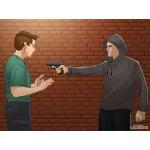Pistol: (45, 61, 64, 75)
